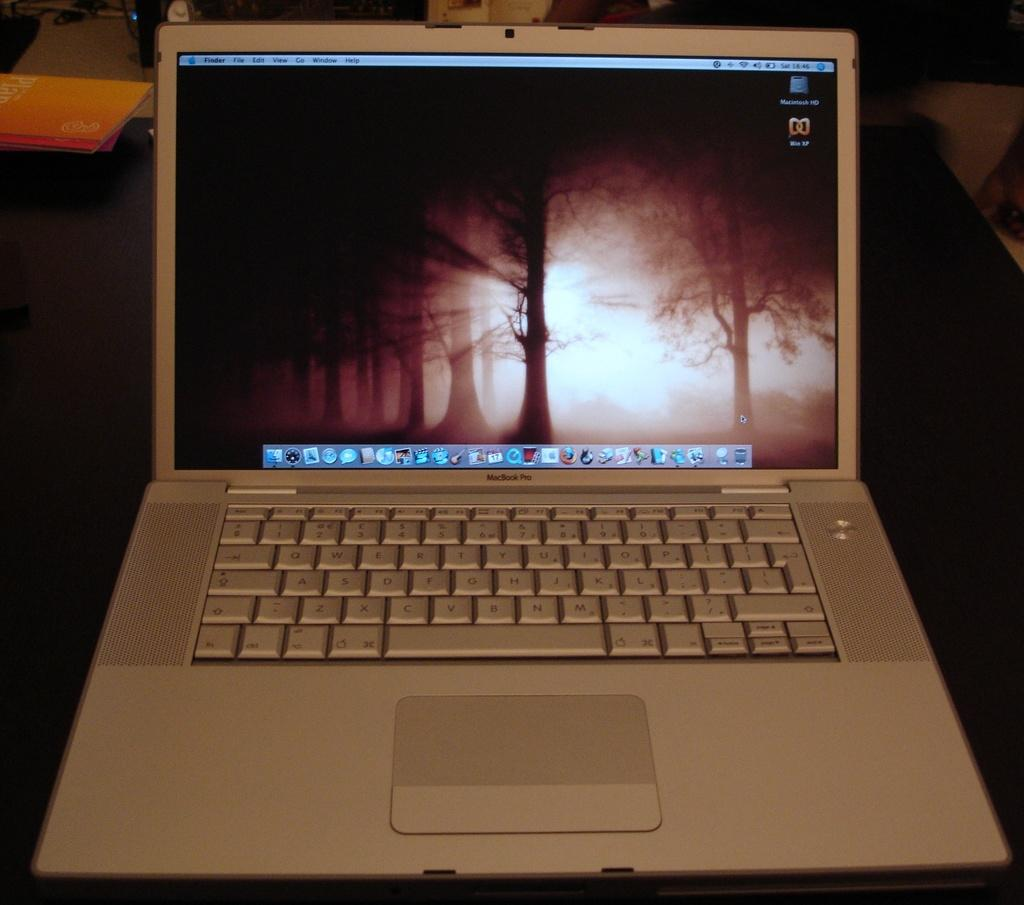Computer-keyboard: (196, 503, 840, 661)
